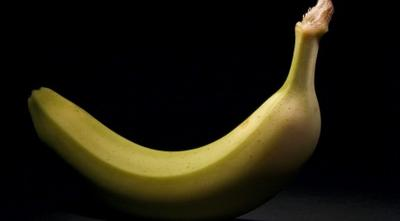banana: (0, 0, 400, 221)
